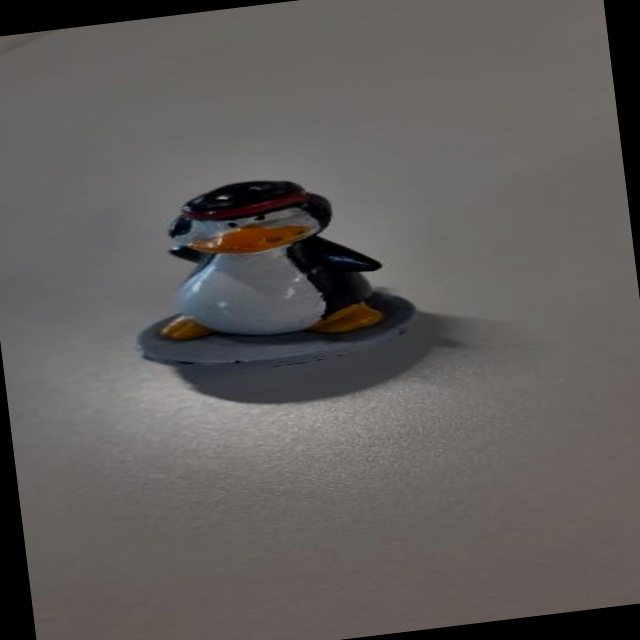Penguin: (101, 153, 459, 386)
